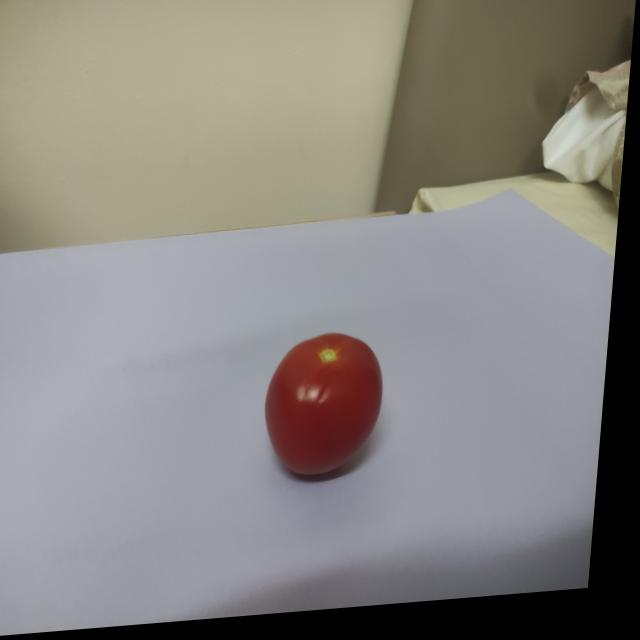kirmizi: (253, 318, 399, 502)
